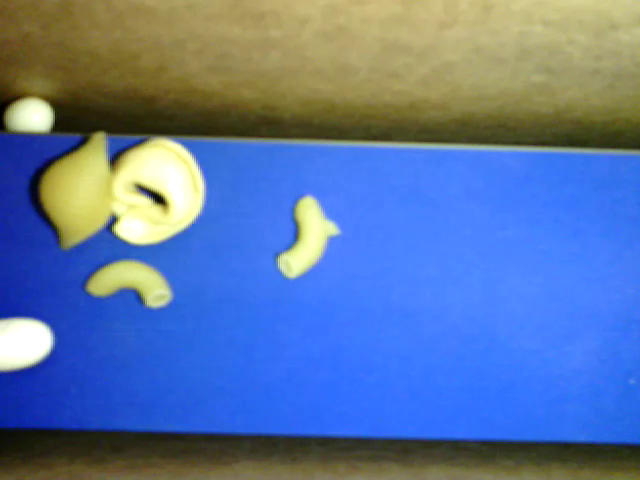elbow: (84, 259, 171, 312), (275, 193, 327, 279)
shell: (39, 131, 113, 248)
tortellini: (108, 136, 206, 244)
